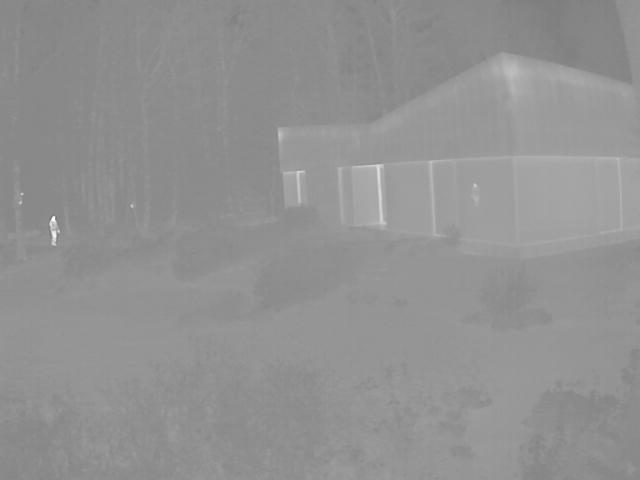person: (48, 214, 62, 246)
